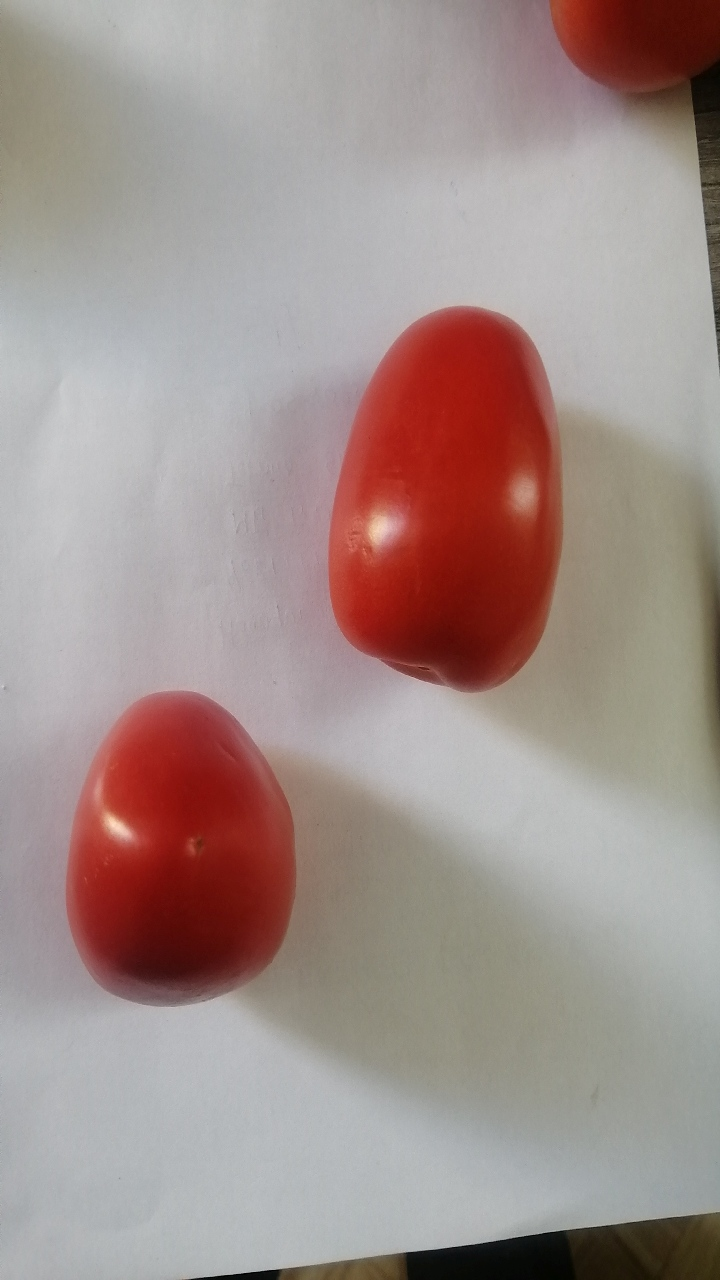tomateRojo: (317, 271, 571, 731), (41, 682, 308, 1031)
